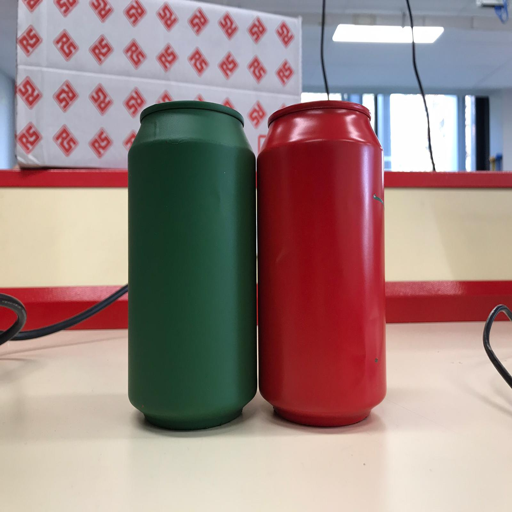Green_Can: (125, 99, 257, 431)
Red_Can: (255, 98, 388, 429)
